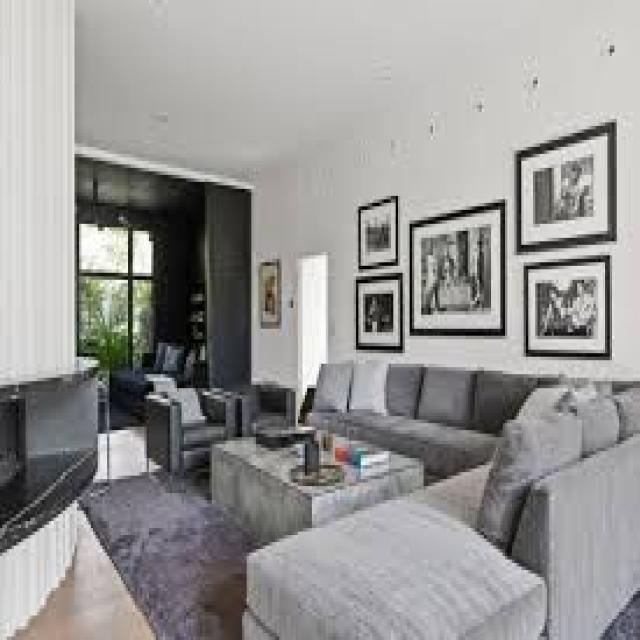Chair: (147, 385, 233, 476), (230, 383, 300, 433)
Sofa: (255, 347, 640, 640)
Table: (212, 424, 419, 530)
